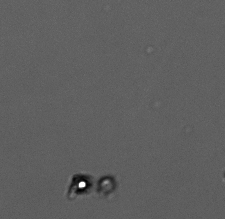Dead Cell: (99, 177, 115, 193)
Living Cell: (73, 176, 88, 194)
